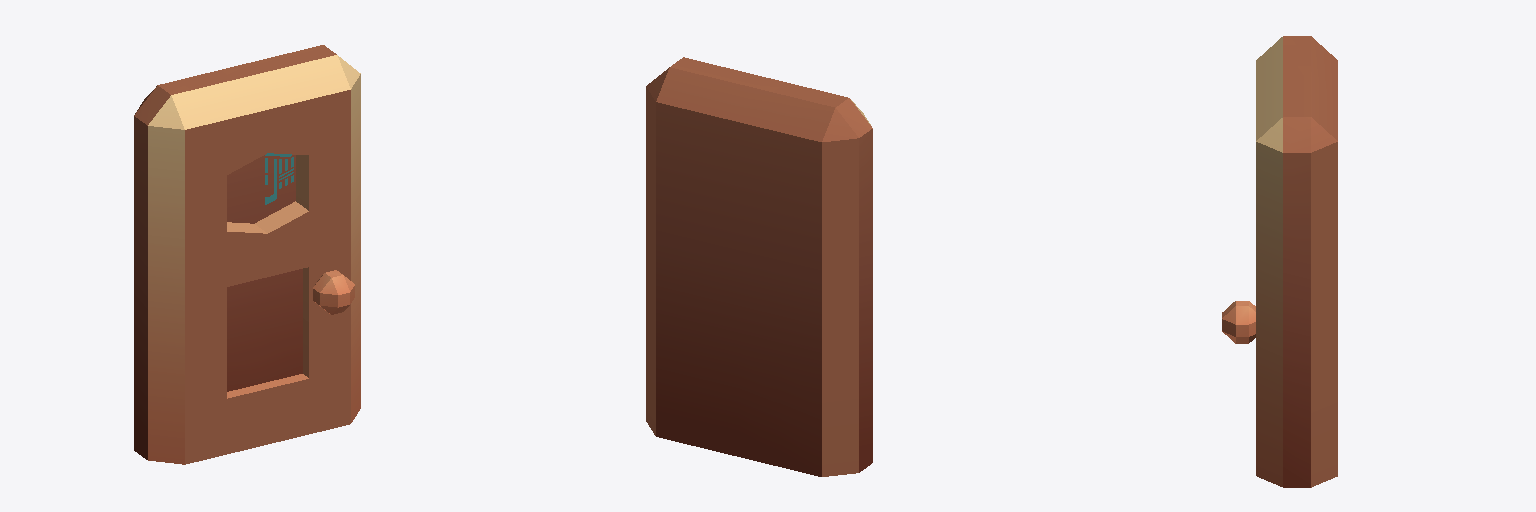
3 renders of one model, left to right at view 1: azimuth 30°, elevation 25°; view 2: azimuth 150°, elevation 25°; view 3: azimuth 270°, elevation 25°, orthographic.
Visible parts, largest first — view 1: beveled_cuboid; view 2: beveled_cuboid; view 3: beveled_cuboid.
Part boxes in pixels (x1,y1,x2,y2): beveled_cuboid: (134, 45, 360, 464); beveled_cuboid: (646, 57, 872, 476); beveled_cuboid: (1222, 36, 1337, 487).
Size of the model in its own units: 1.12 by 1.81 by 0.5312.
Materials: 2 (2 with a texture image).